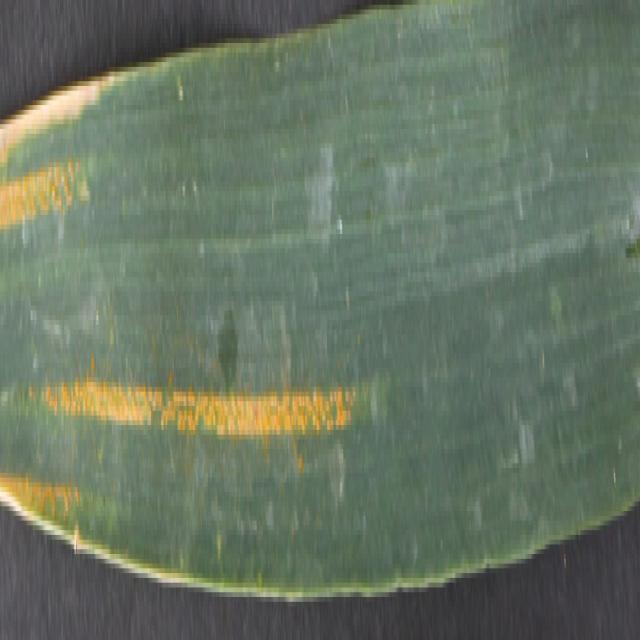leaf rust: (1, 286, 360, 526), (1, 115, 87, 277)
